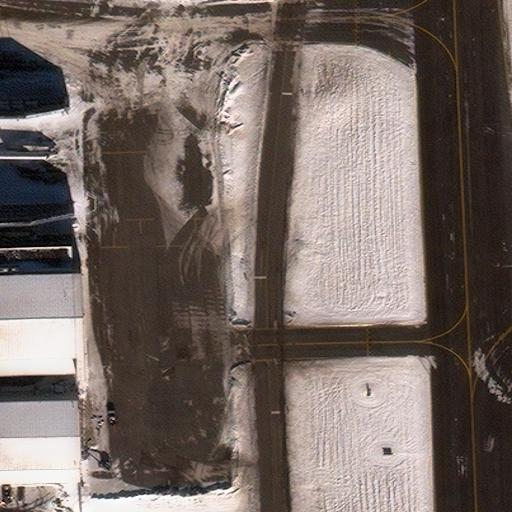Medium Civil Transport: (0, 128, 56, 185)
